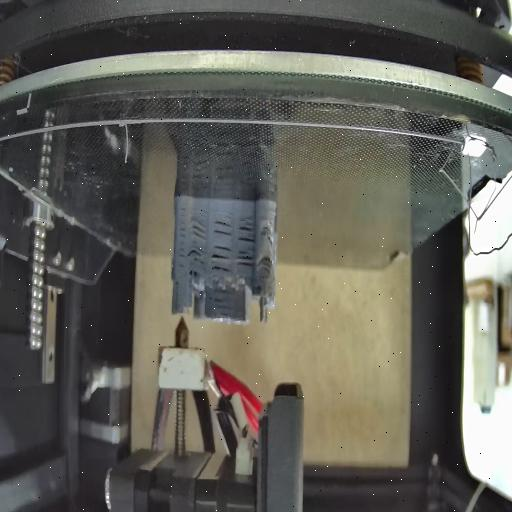cracks: (212, 245, 233, 273), (238, 216, 256, 246), (214, 287, 234, 313), (214, 213, 234, 238), (178, 206, 186, 266), (187, 245, 206, 268), (190, 216, 208, 240), (236, 252, 254, 268), (262, 258, 272, 274), (268, 235, 274, 250), (174, 278, 180, 292)
